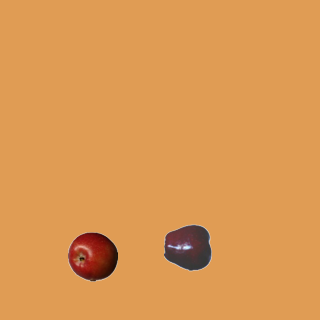Apple Braeburn: (67, 231, 117, 281)
Apple Red Delicious: (163, 222, 213, 272)
